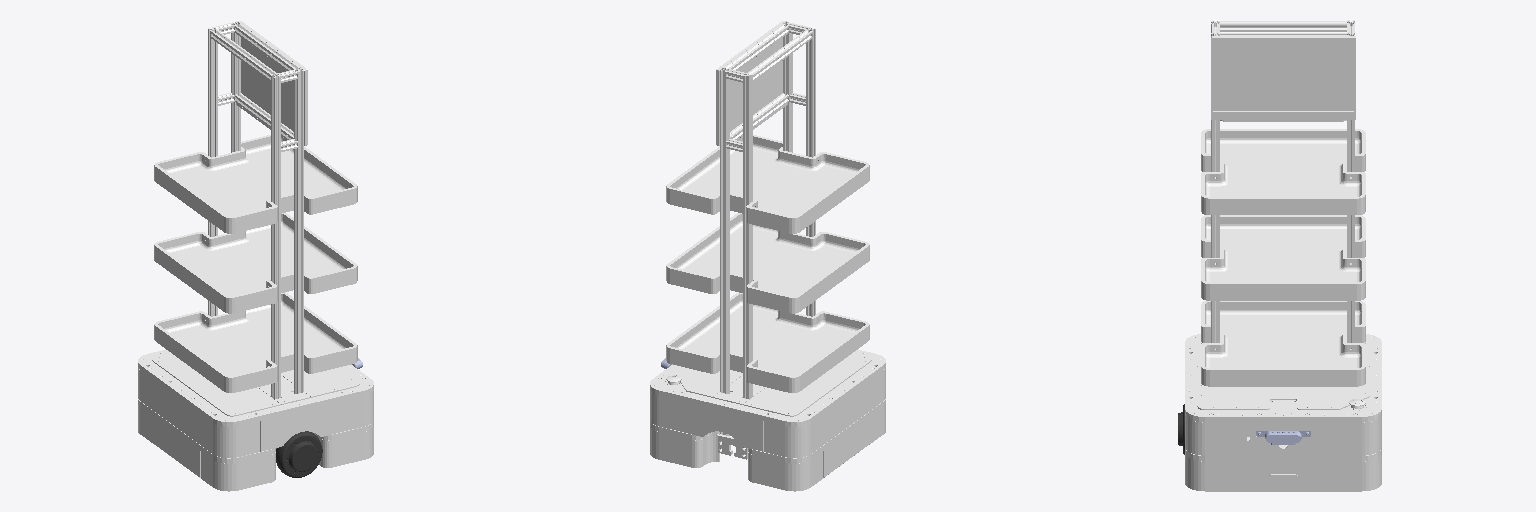
URDF robot description (food_deli_description):
<!-- This URDF was automatically created by SolidWorks to URDF Exporter! Originally created by Stephen Brawner (brawner@gmail.com)
     Commit Version: 1.6.0-4-g7f85cfe  Build Version: 1.6.7995.38578
     For more information, please see http://wiki.ros.org/sw_urdf_exporter -->
<robot
  name="food_deli_description">

  <link
    name="base_link">
    <inertial>
      <origin xyz="0 0 -0.1" rpy="0 0 0" />
      <mass value="10.0" />
      <!-- box inertia: m=10, l=0.45, w=0.45, h=0.2 -->
      <inertia
        ixx="0.20208"
        ixy="0"
        ixz="0"
        iyy="0.3375"
        iyz="0"
        izz="0.20208" />
    </inertial>
    <visual>
      <origin
        xyz="0 0 0"
        rpy="0 0 0" />
      <geometry>
        <mesh
          filename="package://food_deli_description/meshes/base_link.STL" />
      </geometry>
      <material
        name="">
        <color
          rgba="1 1 1 1" />
      </material>
    </visual>
    <collision>
      <origin xyz="0 0 0" rpy="0 0 0" />
      <geometry>
        <box size="0.41 0.40 0.24" />
      </geometry>
    </collision>
  </link>
  <link
    name="right_wheel_link">
    <inertial>
      <origin
        xyz="3.16733048387328E-06 0.000277693667560031 -1.63803130575485E-05"
        rpy="0 0 0" />
      <mass
        value="1.5" />
      <inertia
        ixx="0.001434"
        ixy="0"
        ixz="0"
        iyy="0.002557"
        iyz="0"
        izz="0.001434" />
    </inertial>
    <visual>
      <origin
        xyz="0 0 0"
        rpy="0 0 0" />
      <geometry>
        <mesh
          filename="package://food_deli_description/meshes/right_wheel_link.STL" />
      </geometry>
      <material
        name="">
        <color
          rgba="0.298039215686275 0.298039215686275 0.298039215686275 1" />
      </material>
    </visual>
    <collision>
      <origin xyz="0 0 0" rpy="1.5708 0 0" />
      <geometry>
        <cylinder radius="0.06549" length="0.045" />
      </geometry>
    </collision>
  </link>
  <joint
    name="right_wheel_base_joint"
    type="continuous">
    <origin
      xyz="0.00017427 -0.225 -0.1475"
      rpy="0 0 0" />
    <parent
      link="base_link" />
    <child
      link="right_wheel_link" />
    <axis
      xyz="0 1 0" />
  </joint>
  <link
    name="left_wheel_link">
    <inertial>
      <origin
        xyz="-3.20839202108167E-06 -0.000277710670171072 -1.63097099627751E-05"
        rpy="0 0 0" />
      <mass
        value="1.5" />
      <inertia
        ixx="0.001434"
        ixy="0"
        ixz="0"
        iyy="0.002557"
        iyz="0"
        izz="0.001434" />
    </inertial>
    <visual>
      <origin
        xyz="0 0 0"
        rpy="0 0 0" />
      <geometry>
        <mesh
          filename="package://food_deli_description/meshes/left_wheel_link.STL" />
      </geometry>
      <material
        name="">
        <color
          rgba="0.298039215686275 0.298039215686275 0.298039215686275 1" />
      </material>
    </visual>
    <collision>
      <origin xyz="0 0 0" rpy="1.5708 0 0" />
      <geometry>
        <cylinder radius="0.06549" length="0.045" />
      </geometry>
    </collision>
  </link>
  <joint
    name="left_wheel_base_joint"
    type="continuous">
    <origin
      xyz="0.00017427 0.225 -0.1475"
      rpy="0 0 0" />
    <parent
      link="base_link" />
    <child
      link="left_wheel_link" />
    <axis
      xyz="0 1 0" />
  </joint>
  <link
    name="lidar_link">
    <inertial>
      <origin
        xyz="0.0120602388818924 -0.000532090380882048 -0.018864885396975"
        rpy="0 0 0" />
      <mass
        value="0.002" />
      <inertia
        ixx="1.95808776551824E-05"
        ixy="-1.03933505258985E-07"
        ixz="-4.28390902083657E-07"
        iyy="2.41250105408219E-05"
        iyz="9.4268915723935E-09"
        izz="4.14184560423607E-05" />
    </inertial>
    <visual>
      <origin
        xyz="0 0 0"
        rpy="0 0 0" />
      <geometry>
        <mesh
          filename="package://food_deli_description/meshes/lidar_link.STL" />
      </geometry>
      <material
        name="">
        <color
          rgba="0.792156862745098 0.819607843137255 0.933333333333333 1" />
      </material>
    </visual>
    <collision>
      <origin xyz="0 0 0" rpy="0 0 0" />
      <geometry>
        <box size="0.05 0.05 0.04" />
      </geometry>
    </collision>
  </link>
  <joint
    name="lidar_base_link"
    type="fixed">
    <origin
      xyz="0.17817 0 0.0406"
      rpy="0 0 0" />
    <parent
      link="base_link" />
    <child
      link="lidar_link" />
    <axis
      xyz="0 0 0" />
  </joint>
  <link
    name="camera_link">
    <inertial>
      <origin
        xyz="-0.0016896900191315 3.1 -0.00401517882301231"
        rpy="0 0 0" />
      <mass
        value="0.0001" />
      <inertia
        ixx="4.67746396948393E-05"
        ixy="2.61383173371617E-07"
        ixz="2.97154104394623E-07"
        iyy="6.81477203368761E-06"
        iyz="-3.56436774233995E-09"
        izz="4.82012317109639E-05" />
    </inertial>
    <visual>
      <origin
        xyz="0 0 0"
        rpy="0 0 0" />
      <geometry>
        <mesh
          filename="package://food_deli_description/meshes/camera_link.STL" />
      </geometry>
      <material
        name="">
        <color
          rgba="0.792156862745098 0.819607843137255 0.933333333333333 1" />
      </material>
    </visual>
    <collision>
      <origin xyz="0 0 0" rpy="0 0 0" />
      <geometry>
        <box size="0.05 0.03 0.03" />
      </geometry>
    </collision>
  </link>
  <joint
    name="camera_base_joint"
    type="fixed">
    <origin
      xyz="0.29559 0.0175 -0.034988"
      rpy="0 -0.07296 0" />
    <parent
      link="base_link" />
    <child
      link="camera_link" />
    <axis
      xyz="0 0 0" />
  </joint>
  <link
    name="imu_link">
    <inertial>
      <origin
        xyz="-2.37116841404873E-09 0.00114358136354779 -0.00603761131060739"
        rpy="0 0 0" />
      <mass
        value="0.0250179510871718" />
      <inertia
        ixx="7.77621091457401E-06"
        ixy="7.97264074856703E-19"
        ixz="1.58518255319349E-17"
        iyy="6.45006147287712E-06"
        iyz="-2.29887198300278E-07"
        izz="1.13689682255133E-05" />
    </inertial>
    <visual>
      <origin
        xyz="0 0 0"
        rpy="0 0 0" />
      <geometry>
        <mesh
          filename="package://food_deli_description/meshes/imu_link.STL" />
      </geometry>
      <material
        name="">
        <color
          rgba="0.298039215686275 0.298039215686275 0.298039215686275 1" />
      </material>
    </visual>
    <collision>
      <origin xyz="0 0 0" rpy="0 0 0" />
      <geometry>
        <box size="0.03 0.03 0.01" />
      </geometry>
    </collision>
  </link>
  <joint
    name="imu_base_joint"
    type="fixed">
    <origin
      xyz="0.00017427 0 -0.092399"
      rpy="0 0 0" />
    <parent
      link="base_link" />
    <child
      link="imu_link" />
    <axis
      xyz="0 0 0" />
  </joint>
  <link
    name="caster1_link">
    <inertial>
      <origin
        xyz="0.00852488174010285 -0.0135436219377933 0.0148618650999655"
        rpy="0 0 0" />
      <mass
        value="0.107797455234629" />
      <inertia
        ixx="3.33168638647948E-05"
        ixy="1.49045589792846E-10"
        ixz="-1.72910741145957E-06"
        iyy="5.35364071531758E-05"
        iyz="-1.38257269248058E-10"
        izz="4.52408836100978E-05" />
    </inertial>
    <visual>
      <origin
        xyz="0 0 0"
        rpy="0 0 0" />
      <geometry>
        <mesh
          filename="package://food_deli_description/meshes/caster1_link.STL" />
      </geometry>
      <material
        name="">
        <color
          rgba="0.752941176470588 0.752941176470588 0.752941176470588 1" />
      </material>
    </visual>
    <collision>
      <origin xyz="0 0 0" rpy="0 0 0" />
      <geometry>
        <sphere radius="0.0325" />
      </geometry>
    </collision>
  </link>
  <joint
    name="c1_b_joint"
    type="fixed">
    <origin
      xyz="-0.18433 -0.15597 -0.1855"
      rpy="0 0 0" />
    <parent
      link="base_link" />
    <child
      link="caster1_link" />
    <axis
      xyz="0 0 0" />
  </joint>
  <link
    name="caster2_link">
    <inertial>
      <origin
        xyz="0.0085248817401028 -0.013543621937793 0.0148618650999655"
        rpy="0 0 0" />
      <mass
        value="0.107797455234629" />
      <inertia
        ixx="3.33168638647949E-05"
        ixy="1.49045589772927E-10"
        ixz="-1.72910741146011E-06"
        iyy="5.35364071531807E-05"
        iyz="-1.38257269245524E-10"
        izz="4.52408836101027E-05" />
    </inertial>
    <visual>
      <origin
        xyz="0 0 0"
        rpy="0 0 0" />
      <geometry>
        <mesh
          filename="package://food_deli_description/meshes/caster2_link.STL" />
      </geometry>
      <material
        name="">
        <color
          rgba="0.752941176470588 0.752941176470588 0.752941176470588 1" />
      </material>
    </visual>
    <collision>
      <origin xyz="0 0 0" rpy="0 0 0" />
      <geometry>
        <sphere radius="0.0325" />
      </geometry>
    </collision>
  </link>
  <joint
    name="c2_b_joint"
    type="fixed">
    <origin
      xyz="-0.18433 0.18303 -0.1855"
      rpy="0 0 0" />
    <parent
      link="base_link" />
    <child
      link="caster2_link" />
    <axis
      xyz="0 0 0" />
  </joint>
  <link
    name="caster3_link">
    <inertial>
      <origin
        xyz="-0.00852488174010274 -0.0135073780622069 0.0148618650999655"
        rpy="0 0 0" />
      <mass
        value="0.107797455234629" />
      <inertia
        ixx="3.33168638647948E-05"
        ixy="1.49045589785039E-10"
        ixz="1.72910741145981E-06"
        iyy="5.35364071531848E-05"
        iyz="1.3825726924505E-10"
        izz="4.52408836101067E-05" />
    </inertial>
    <visual>
      <origin
        xyz="0 0 0"
        rpy="0 0 0" />
      <geometry>
        <mesh
          filename="package://food_deli_description/meshes/caster3_link.STL" />
      </geometry>
      <material
        name="">
        <color
          rgba="0.752941176470588 0.752941176470588 0.752941176470588 1" />
      </material>
    </visual>
    <collision>
      <origin xyz="0 0 0" rpy="0 0 0" />
      <geometry>
        <sphere radius="0.0325" />
      </geometry>
    </collision>
  </link>
  <joint
    name="c3_b_joint"
    type="fixed">
    <origin
      xyz="0.18467 -0.15597 -0.1855"
      rpy="0 0 0" />
    <parent
      link="base_link" />
    <child
      link="caster3_link" />
    <axis
      xyz="0 0 0" />
  </joint>
  <link
    name="caster4_link">
    <inertial>
      <origin
        xyz="-0.00852488174010285 -0.0135073780622068 0.0148618650999655"
        rpy="0 0 0" />
      <mass
        value="0.107797455234629" />
      <inertia
        ixx="3.33168638647949E-05"
        ixy="1.49045589758903E-10"
        ixz="1.72910741146011E-06"
        iyy="5.35364071531811E-05"
        iyz="1.38257269282171E-10"
        izz="4.52408836101031E-05" />
    </inertial>
    <visual>
      <origin
        xyz="0 0 0"
        rpy="0 0 0" />
      <geometry>
        <mesh
          filename="package://food_deli_description/meshes/caster4_link.STL" />
      </geometry>
      <material
        name="">
        <color
          rgba="0.752941176470588 0.752941176470588 0.752941176470588 1" />
      </material>
    </visual>
    <collision>
      <origin xyz="0 0 0" rpy="0 0 0" />
      <geometry>
        <sphere radius="0.0325" />
      </geometry>
    </collision>
  </link>
  <joint
    name="c4_b_joint"
    type="fixed">
    <origin
      xyz="0.18467 0.18303 -0.1855"
      rpy="0 0 0" />
    <parent
      link="base_link" />
    <child
      link="caster4_link" />
    <axis
      xyz="0 0 0" />
  </joint>

  <!-- Gazebo: wheel friction -->
  <gazebo reference="right_wheel_link">
    <mu1>1.0</mu1>
    <mu2>1.0</mu2>
    <kp>500000.0</kp>
    <kd>10.0</kd>
    <minDepth>0.001</minDepth>
    <maxVel>0.1</maxVel>
  </gazebo>
  <gazebo reference="left_wheel_link">
    <mu1>1.0</mu1>
    <mu2>1.0</mu2>
    <kp>500000.0</kp>
    <kd>10.0</kd>
    <minDepth>0.001</minDepth>
    <maxVel>0.1</maxVel>
  </gazebo>

  <!-- Gazebo: caster friction (low to allow free rolling) -->
  <gazebo reference="caster1_link">
    <mu1>0.01</mu1>
    <mu2>0.01</mu2>
    <kp>100000.0</kp>
    <kd>100.0</kd>
  </gazebo>
  <gazebo reference="caster2_link">
    <mu1>0.01</mu1>
    <mu2>0.01</mu2>
    <kp>100000.0</kp>
    <kd>100.0</kd>
  </gazebo>
  <gazebo reference="caster3_link">
    <mu1>0.01</mu1>
    <mu2>0.01</mu2>
    <kp>100000.0</kp>
    <kd>100.0</kd>
  </gazebo>
  <gazebo reference="caster4_link">
    <mu1>0.01</mu1>
    <mu2>0.01</mu2>
    <kp>100000.0</kp>
    <kd>100.0</kd>
  </gazebo>

  <!-- Gazebo: differential drive plugin -->
  <gazebo>
    <plugin name="differential_drive_controller" filename="libgazebo_ros_diff_drive.so">
      <ros>
        <namespace>/</namespace>
      </ros>
      <update_rate>30</update_rate>
      <left_joint>left_wheel_base_joint</left_joint>
      <right_joint>right_wheel_base_joint</right_joint>
      <!-- wheel separation: |left_y - right_y| = |0.225 - (-0.225)| = 0.45 m -->
      <wheel_separation>0.45</wheel_separation>
      <!-- wheel diameter estimated from inertia: ~0.131 m -->
      <wheel_diameter>0.131</wheel_diameter>
      <max_wheel_torque>20</max_wheel_torque>
      <max_wheel_acceleration>1.0</max_wheel_acceleration>
      <command_topic>cmd_vel</command_topic>
      <publish_odom>true</publish_odom>
      <publish_odom_tf>true</publish_odom_tf>
      <publish_wheel_tf>false</publish_wheel_tf>
      <odometry_topic>odom</odometry_topic>
      <odometry_frame>odom</odometry_frame>
      <robot_base_frame>base_link</robot_base_frame>
    </plugin>
  </gazebo>

  <!-- Gazebo: LiDAR laser scan plugin -->
  <gazebo reference="lidar_link">
    <sensor name="lidar" type="ray">
      <pose>0 0 0 0 0 0</pose>
      <visualize>true</visualize>
      <update_rate>8</update_rate>
      <ray> 
          <scan>
              <horizontal>
                  <samples>1083</samples>
                  <resolution>1</resolution>
                  <min_angle>-3.1241390705108643</min_angle>
                  <max_angle>3.1415927410125732</max_angle> 
              </horizontal>
          </scan>
          <range>
              <min>0.1</min>
              <max>12</max>
          </range>
      </ray>
      <plugin name="lidar" filename="libgazebo_ros_ray_sensor.so">
        <ros>
            <remapping>~/out:=scan</remapping>
        </ros>
        <output_type>sensor_msgs/LaserScan</output_type>
        <topic>scan</topic>
        <frame_name>lidar_link</frame_name> 
        <transport>ros</transport>
      </plugin>
    </sensor>
  </gazebo>

</robot>

--- What the picture shows (computed from the rendered views, not written in the file) ---
The picture shows the robot from 3 angles, left to right: view 1: azimuth 30°, elevation 25°; view 2: azimuth 150°, elevation 25°; view 3: azimuth 270°, elevation 25°; orthographic projection.
Robot: food_deli_description — 10 links, 9 joints (2 continuous, 7 fixed); root link base_link; default pose: every joint at zero.
Links seen in each view (by area): view 1: base_link, right_wheel_link; view 2: base_link; view 3: base_link, camera_link.
Link boxes in pixels (x1=…): base_link: x1=138, y1=21, x2=373, y2=491; right_wheel_link: x1=276, y1=431, x2=322, y2=477; base_link: x1=650, y1=21, x2=885, y2=491; base_link: x1=1185, y1=20, x2=1381, y2=491; camera_link: x1=1256, y1=431, x2=1310, y2=444.
Size in the robot's own frame: 0.5399 by 0.497 by 1.15 metres.
7 mesh visuals loaded from 10 distinct referenced files (7 binary STL); not drawn: 3 (reference not matched to a file when rendering).
